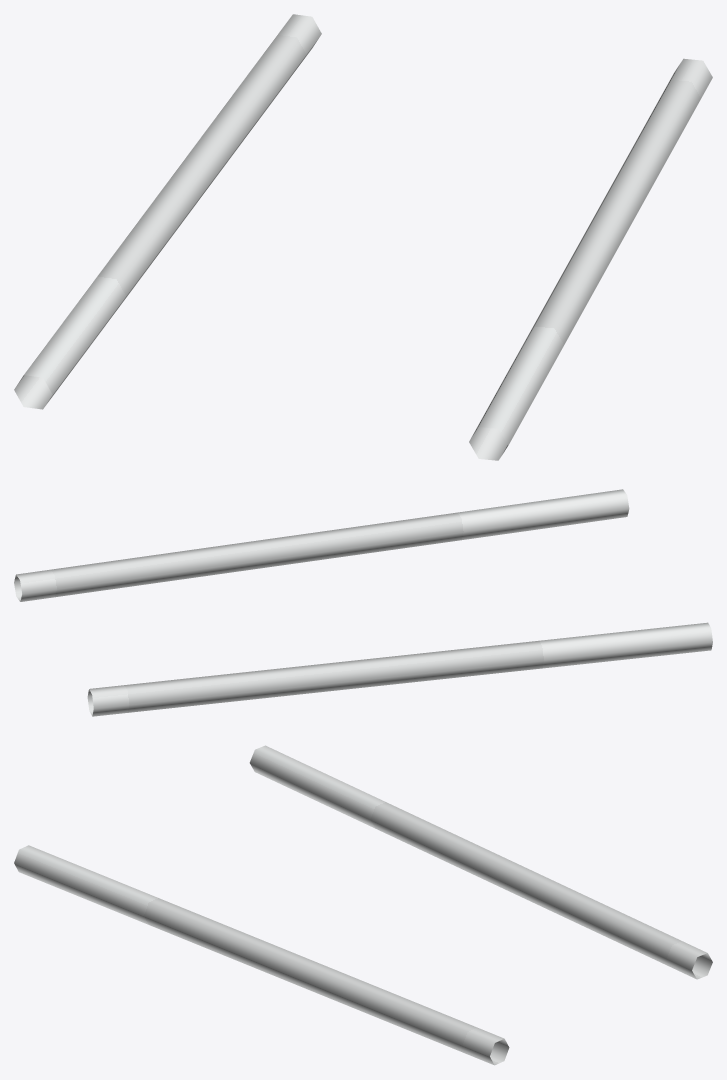
Rendered from nycsignalarm_diagonal12_c15.obj.
3 renders of one model, top to bottom at view 1: azimuth 30°, elevation 25°; view 2: azimuth 150°, elevation 25°; view 3: azimuth 270°, elevation 25°, orthographic. The views are drawn at different scales.
Visible parts, largest first — view 1: nycsignalarm_diagonal12_c15; view 2: nycsignalarm_diagonal12_c15; view 3: nycsignalarm_diagonal12_c15.
Boxes of the visible parts, <box> form: nycsignalarm_diagonal12_c15: <box>14,14,712,460</box>; nycsignalarm_diagonal12_c15: <box>14,489,712,716</box>; nycsignalarm_diagonal12_c15: <box>14,745,712,1065</box>.
Size of the model in its own units: 1.52 by 0.0696 by 1.52.
